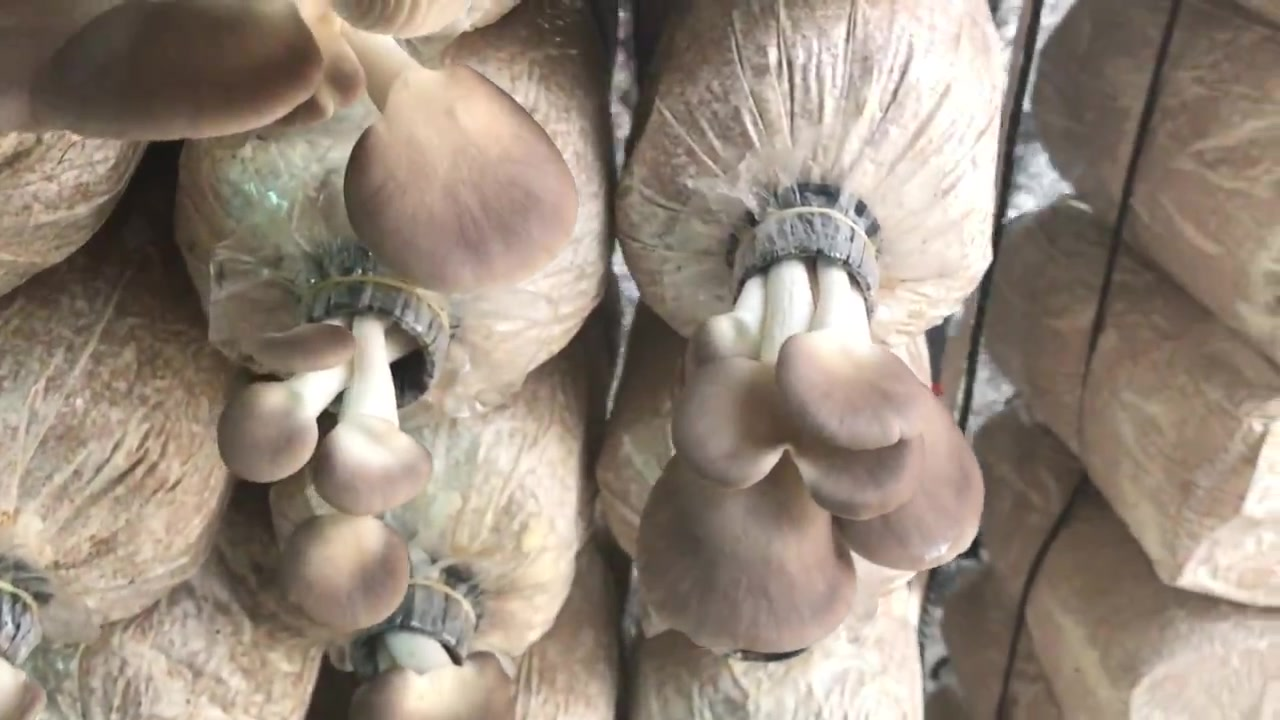nam: (2, 1, 580, 291), (636, 214, 981, 651), (216, 275, 457, 631), (348, 584, 511, 720)
